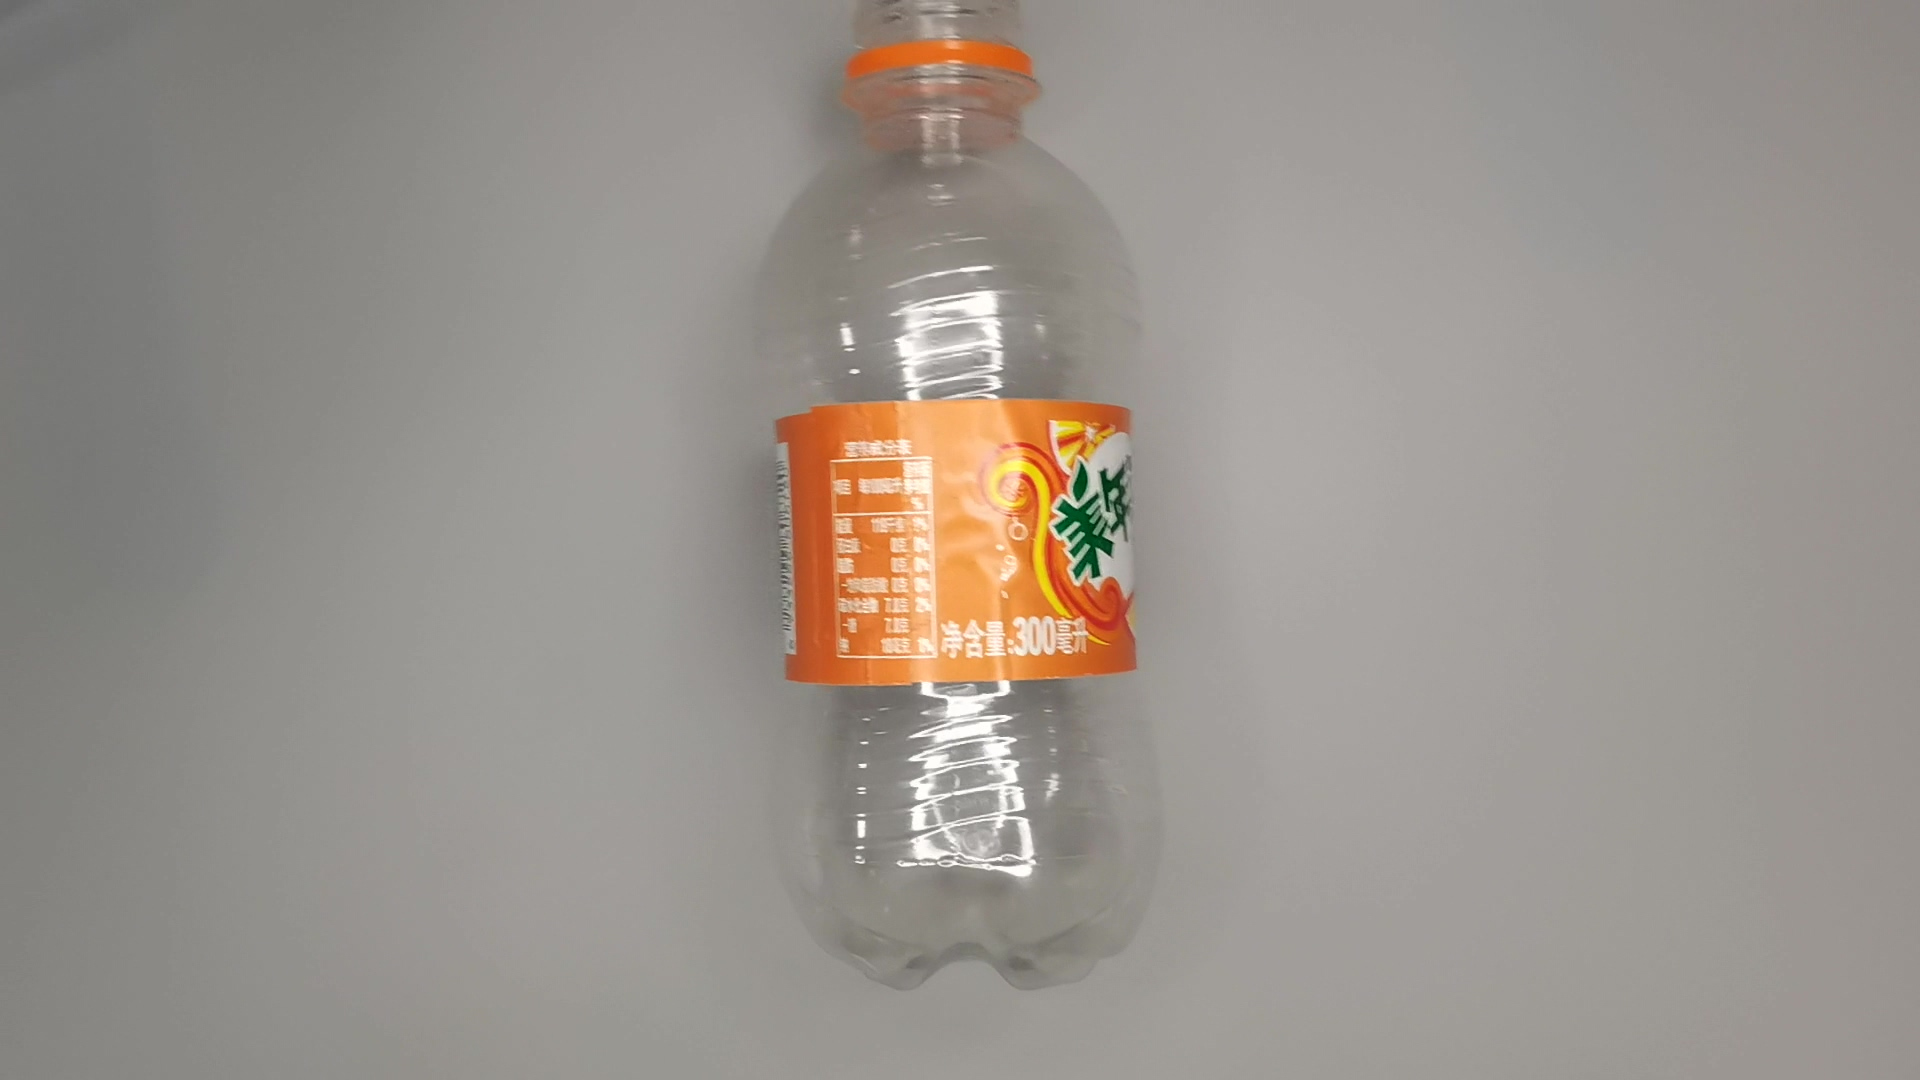bottle: (752, 1, 1176, 1006)
